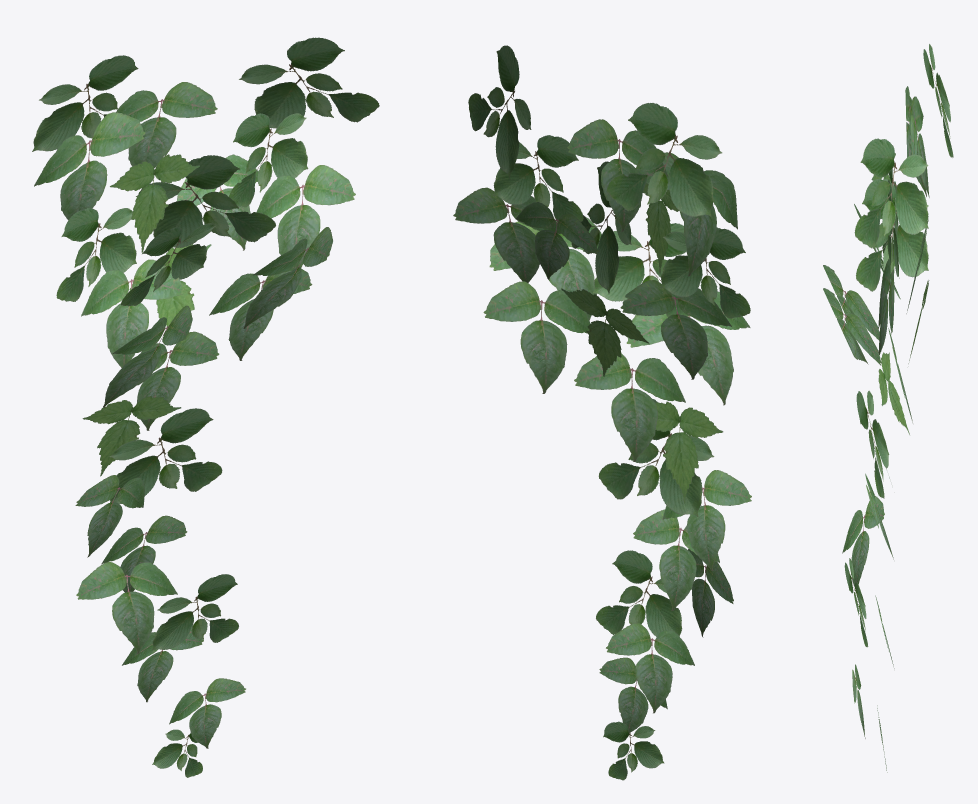
File: ivy01_Lod1.FBX
3 views of the same model, side by side, from view 1: azimuth 30°, elevation 25°; view 2: azimuth 150°, elevation 25°; view 3: azimuth 270°, elevation 25° (orthographic). The views are drawn at different scales.
Visible parts, largest first — view 1: ivy01_Lod1; view 2: ivy01_Lod1; view 3: ivy01_Lod1.
Part boxes in pixels (<box>): ivy01_Lod1: <box>32,37,379,777</box>; ivy01_Lod1: <box>453,45,751,780</box>; ivy01_Lod1: <box>823,44,953,772</box>.
Bounding box in the file's own units: 64.48 × 133 × 25.78.
1 material, 1 textured.
